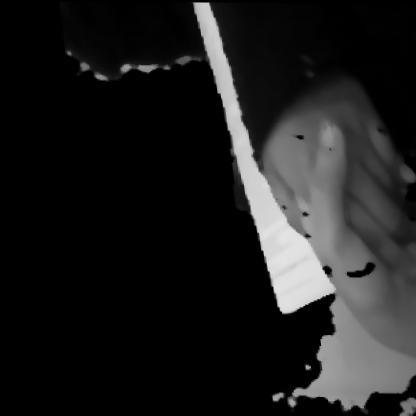handshake: (208, 9, 415, 371)
